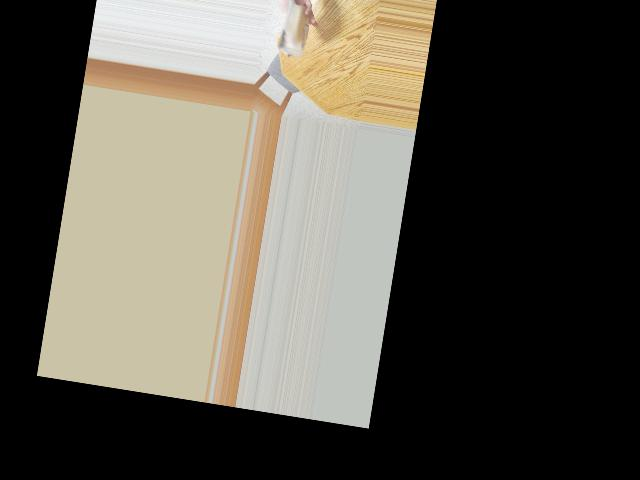cheese: (272, 0, 318, 58)
